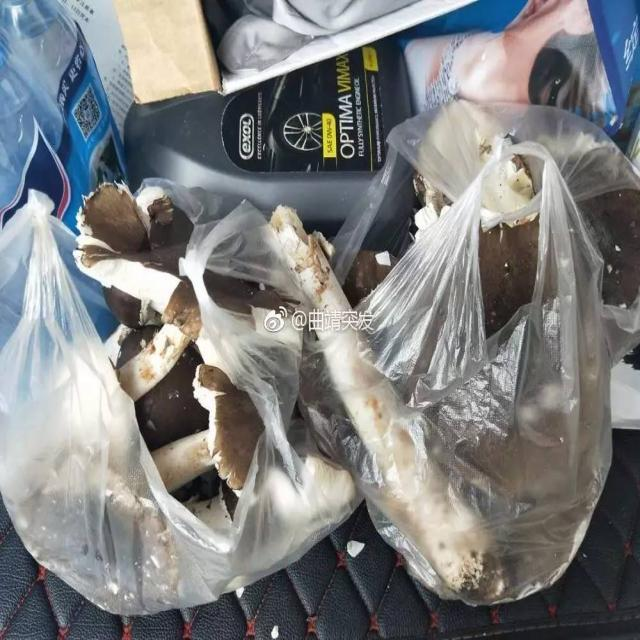Collybia albuminosa: (76, 184, 197, 413), (135, 366, 264, 519)
